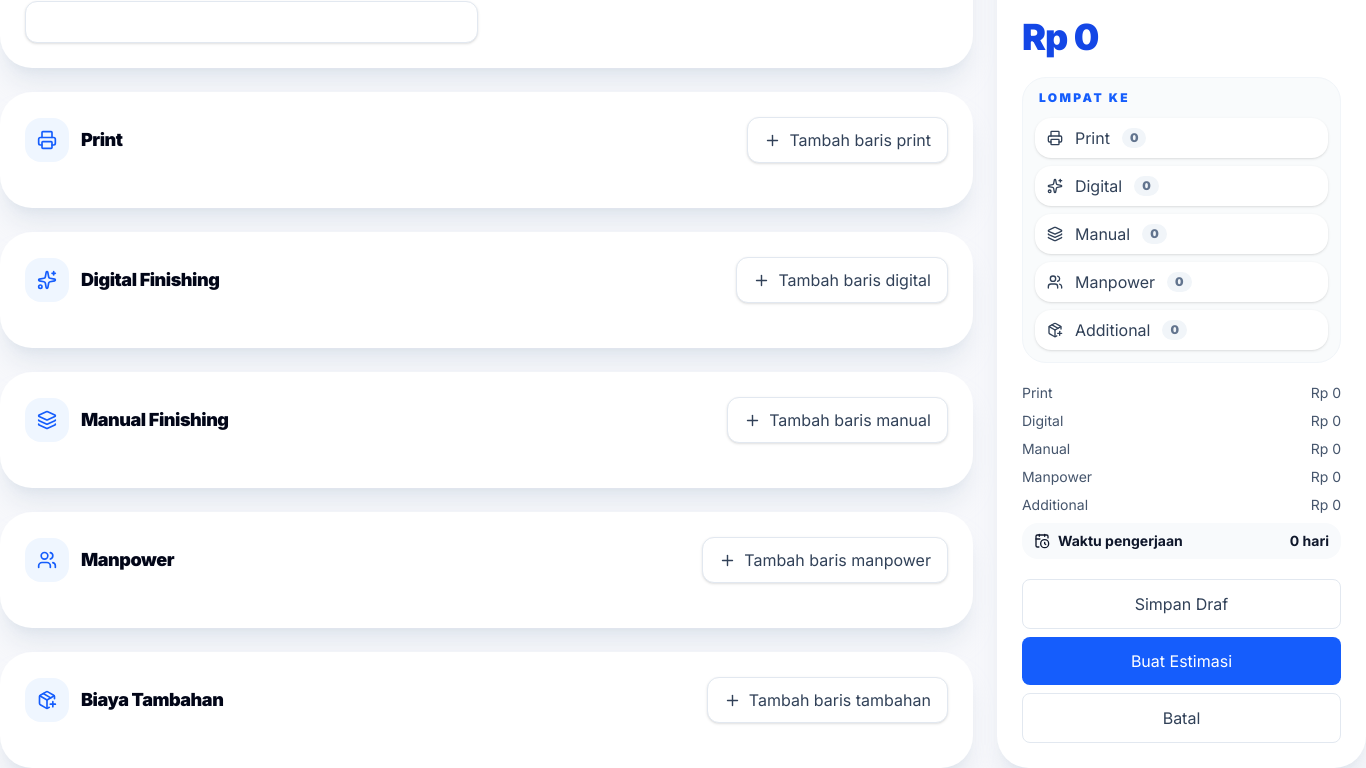
it: EstimationView › uses the paper purchase rate from master data
(page scrolled)
Click the button "Tambah baris tambahan" at (827, 700), box x1=707 y1=677 x2=948 y2=723
(page scrolled)
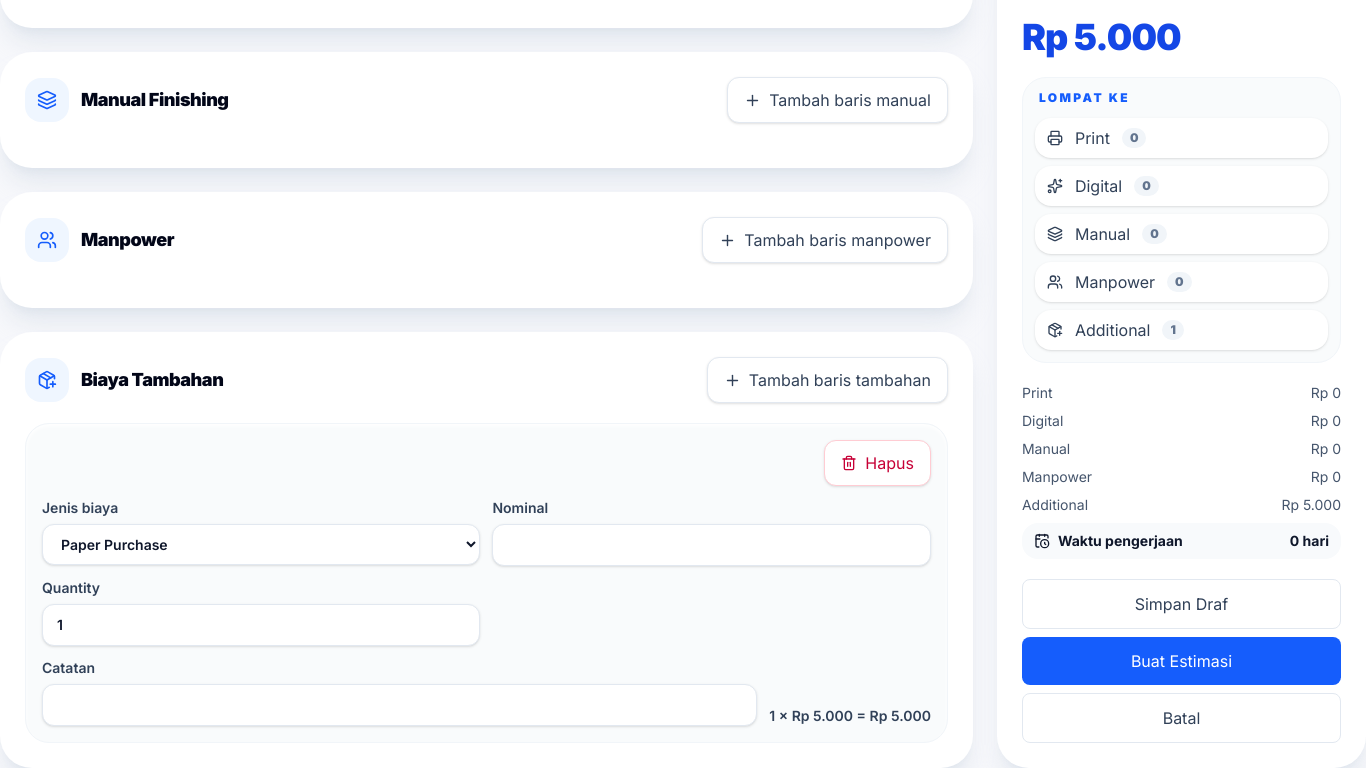
Check: the number field labelled "Quantity" holds "1", box x1=42 y1=604 x2=480 y2=646
Check: the text "1 × Rp 5.000 = Rp 5.000" is shown, box x1=769 y1=706 x2=931 y2=726
